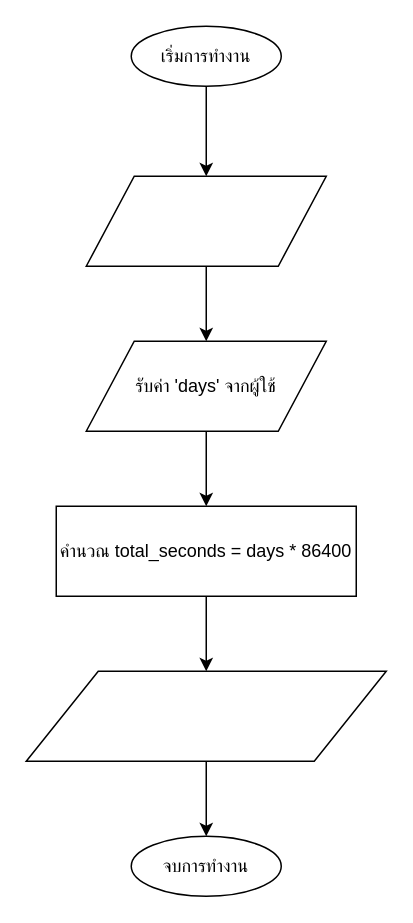
Some shapes in this 413 by 923 pixel diagram are drawn without their labels. Here are the shapes that lost their labels. From the top down, the box of each, then its label:
(85, 175, 326, 266): แสดงข้อความ: 'ใส่จำนวนวัน (Days): '
(25, 670, 386, 761): แสดงผลลัพธ์: 'days' days = 'total_seconds' seconds
